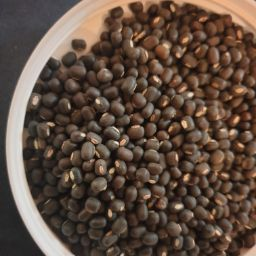Black Gram(urad daal): (93, 2, 218, 256), (26, 122, 256, 247), (58, 20, 256, 150), (39, 34, 138, 256), (182, 14, 256, 256)
